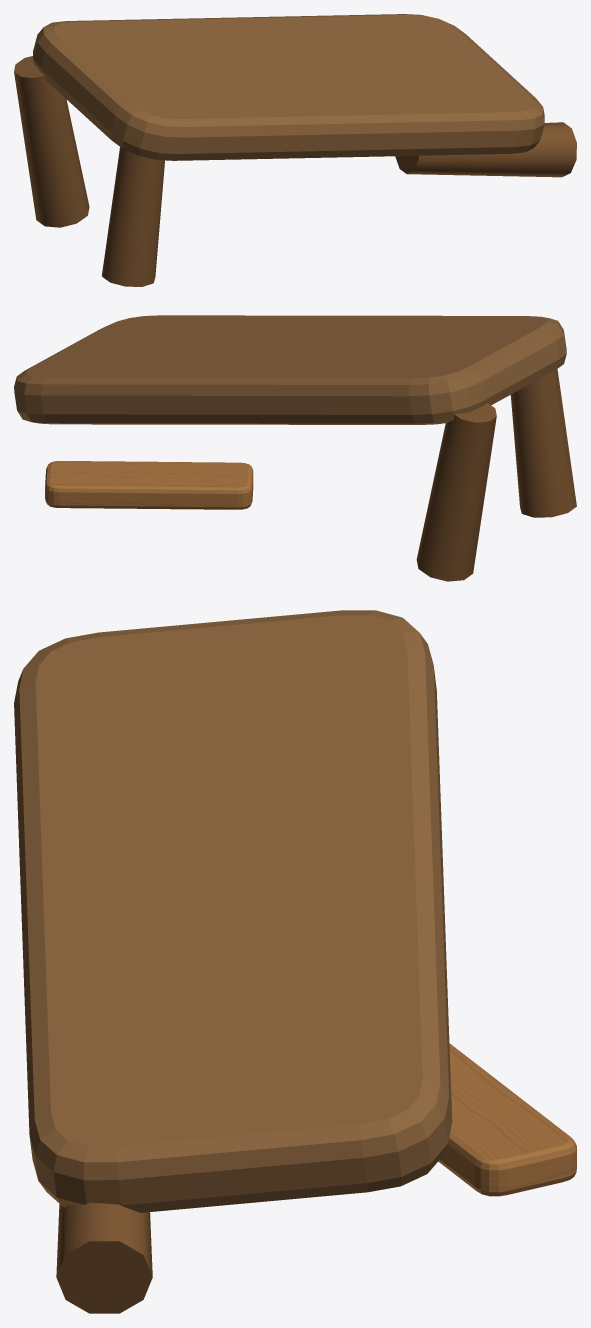
The model's file is workbench-broken.glb.
The picture shows the model from 3 angles, top to bottom: view 1: azimuth 30°, elevation 25°; view 2: azimuth 150°, elevation 25°; view 3: azimuth 270°, elevation 25°; orthographic projection. The views are drawn at different scales.
Bounding box in the file's own units: 2.38 × 0.917 × 1.4.
3 materials, 1 textured.
